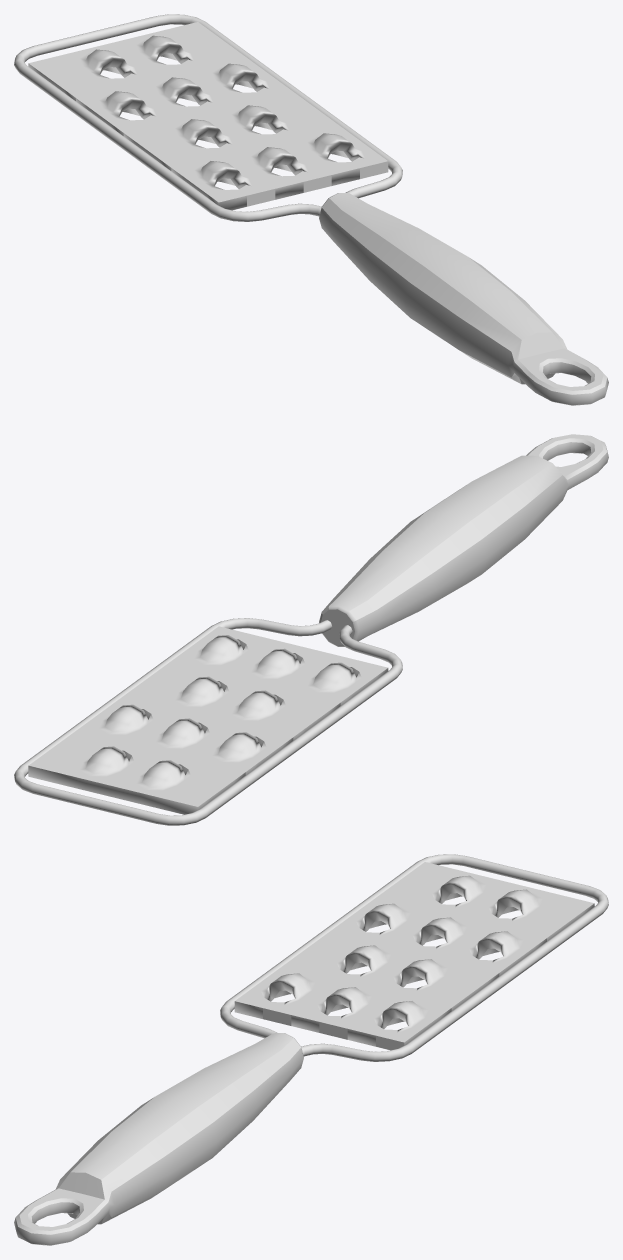
Rendered from cheese_grater.glb.
3 views of the same model, one above another, from view 1: azimuth 30°, elevation 25°; view 2: azimuth 150°, elevation 25°; view 3: azimuth 330°, elevation 25° (orthographic).
Parts seen in each view (by area): view 1: CheeseGraterMesh-col; view 2: CheeseGraterMesh-col; view 3: CheeseGraterMesh-col.
Part boxes in pixels (bbox=[...]): CheeseGraterMesh-col: bbox=[14, 14, 608, 405]; CheeseGraterMesh-col: bbox=[14, 434, 608, 825]; CheeseGraterMesh-col: bbox=[14, 854, 608, 1245].
Size of the model in its own units: 0.08 by 0.0283 by 0.3669.
1 material, 1 textured.
